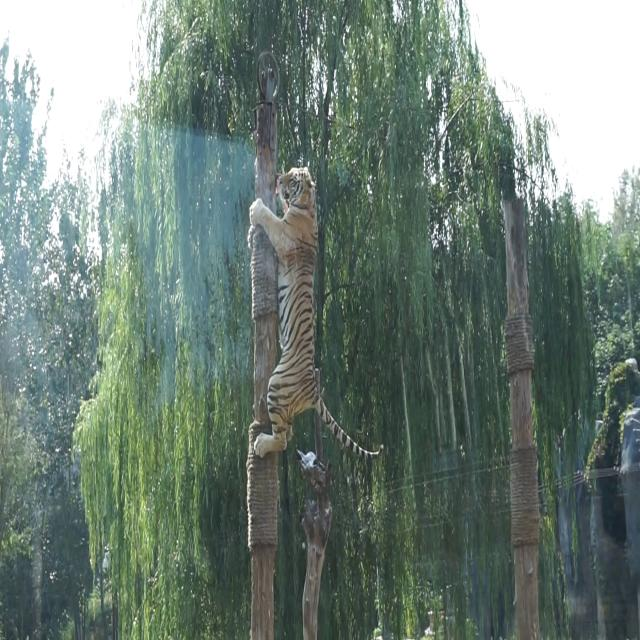Tiger: (242, 159, 389, 475)
